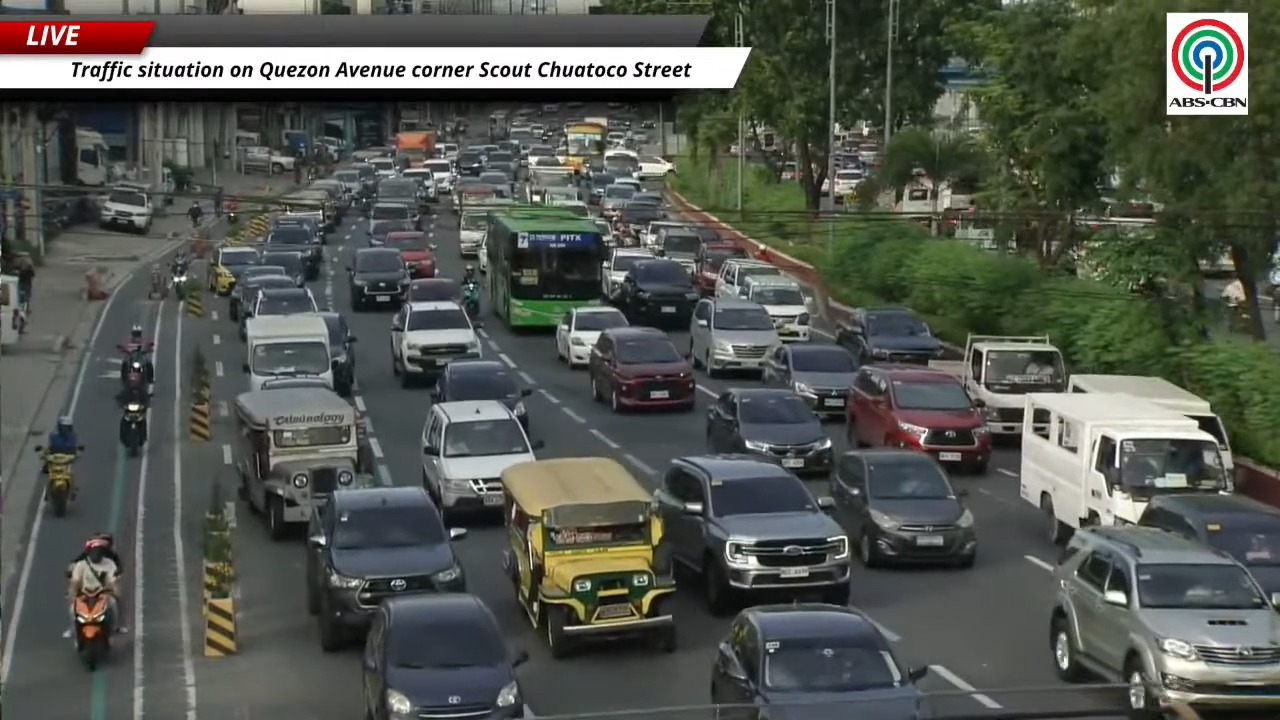bus: (484, 207, 607, 328), (557, 122, 606, 168)
car: (1048, 525, 1279, 719), (655, 454, 850, 614), (305, 486, 466, 651), (710, 603, 927, 719), (363, 593, 527, 719), (830, 448, 977, 567), (846, 364, 991, 471), (422, 400, 542, 521), (1138, 494, 1279, 593), (707, 387, 832, 476), (587, 326, 695, 412), (390, 301, 480, 386), (689, 297, 781, 376), (762, 343, 857, 418), (431, 359, 531, 428), (835, 307, 942, 364), (612, 258, 699, 327), (237, 276, 317, 340), (740, 276, 811, 341), (555, 306, 628, 368), (347, 248, 409, 311), (228, 266, 295, 321), (317, 311, 356, 396), (263, 224, 322, 280), (693, 238, 746, 296), (99, 183, 154, 234), (601, 247, 653, 299), (714, 258, 782, 297), (382, 231, 436, 279), (206, 246, 258, 295), (654, 227, 701, 275), (615, 196, 665, 236), (259, 249, 306, 287), (368, 200, 419, 235), (402, 166, 438, 211), (405, 277, 463, 304), (598, 176, 637, 216), (269, 214, 325, 240), (641, 219, 692, 246), (368, 220, 415, 246), (260, 376, 330, 389), (636, 156, 674, 179), (588, 172, 614, 204), (366, 156, 399, 181), (591, 216, 616, 248), (456, 148, 484, 176), (486, 159, 518, 180), (631, 190, 666, 209), (479, 169, 511, 187), (530, 156, 564, 167)
motorcycle: (73, 589, 112, 671), (35, 446, 76, 517), (119, 401, 147, 456), (121, 346, 152, 394), (122, 358, 146, 390), (169, 266, 191, 298), (462, 281, 479, 320), (148, 269, 168, 299), (226, 210, 238, 224)
truck: (1019, 393, 1231, 543), (1068, 374, 1232, 472), (929, 334, 1067, 436), (242, 313, 333, 390), (75, 127, 109, 186), (239, 146, 296, 174), (395, 131, 437, 168), (582, 117, 609, 130)
